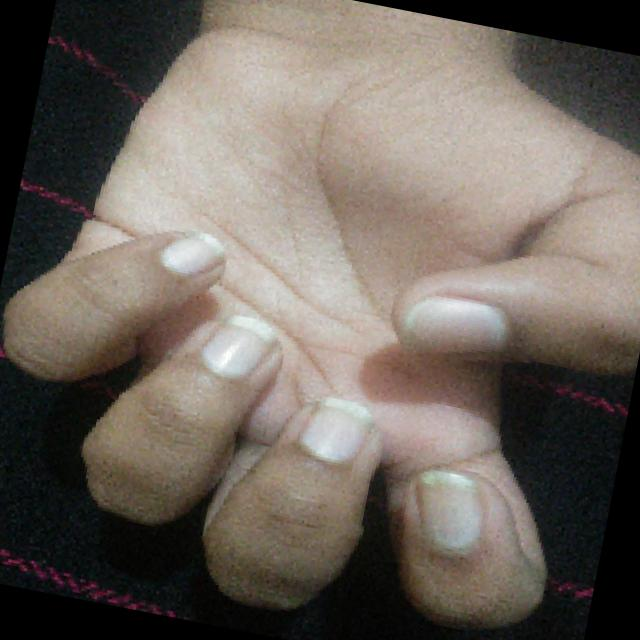Nail: (400, 295, 510, 355), (418, 469, 483, 554), (299, 398, 372, 463), (201, 315, 275, 378), (160, 232, 224, 275)
